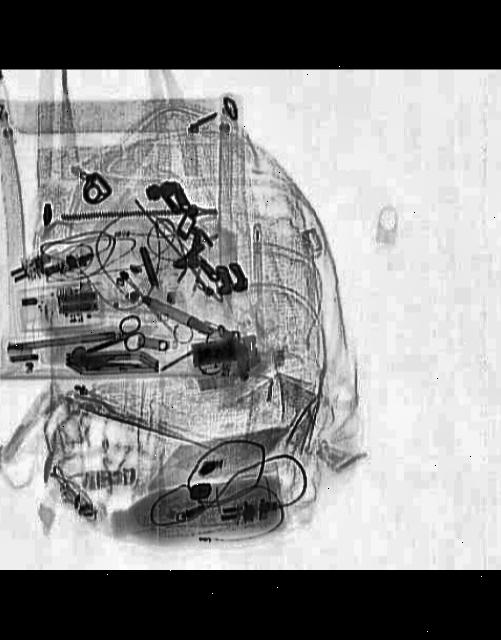Scissors: (76, 311, 155, 368)
